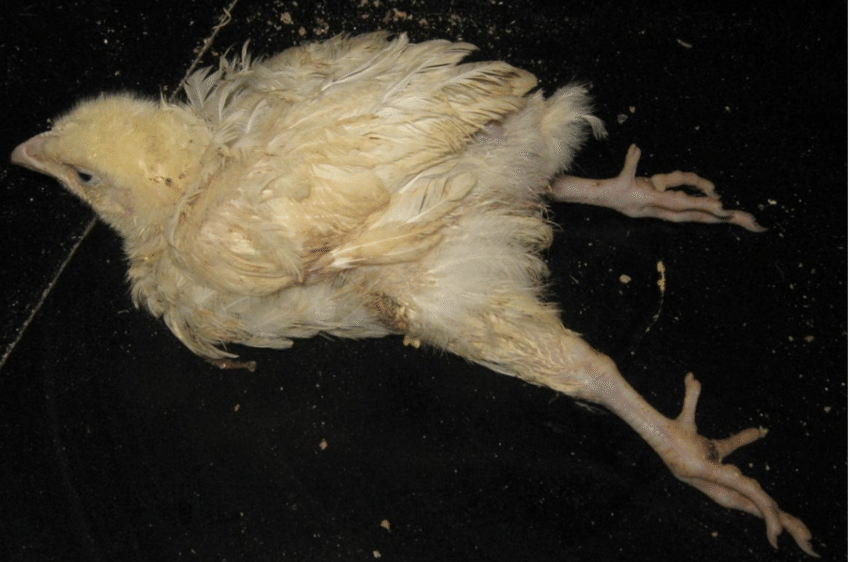Unhealthy: (5, 31, 826, 550)
